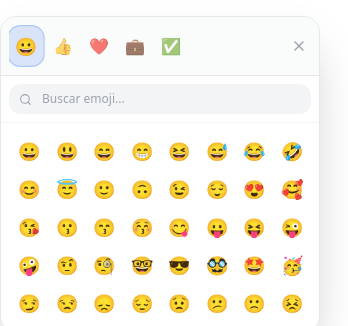
EmojiPickerDropdown › permite alternar entre categorias
(page scrolled)
Click the button titled "Mãos & Gestos". click: [63, 46]
box: [47,28,79,64]
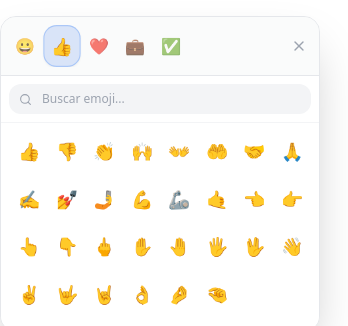
Result: the button "👏" is shown at [88,135,120,167]
